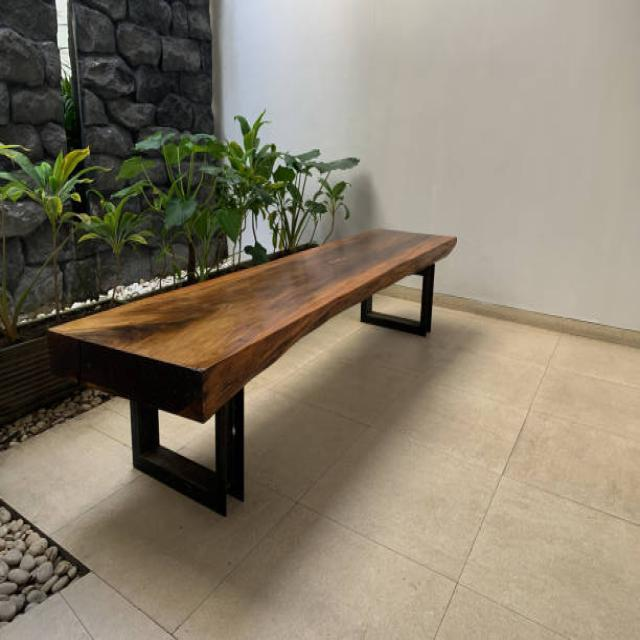table: (46, 225, 457, 518)
